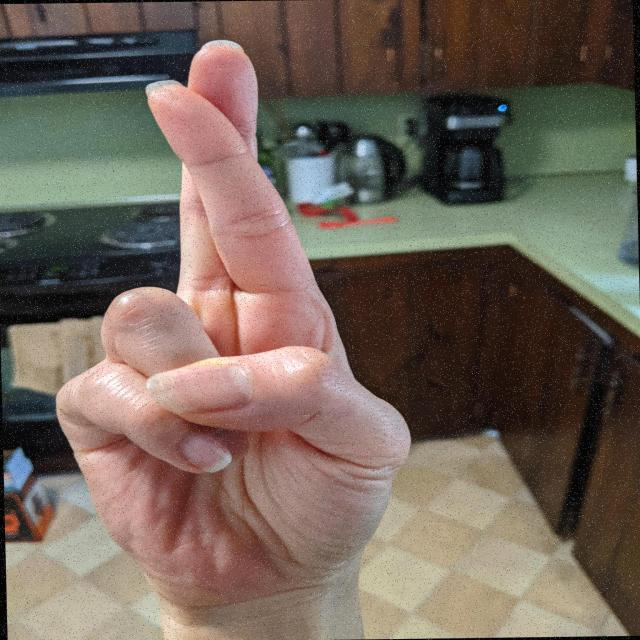R: (40, 33, 422, 617)
